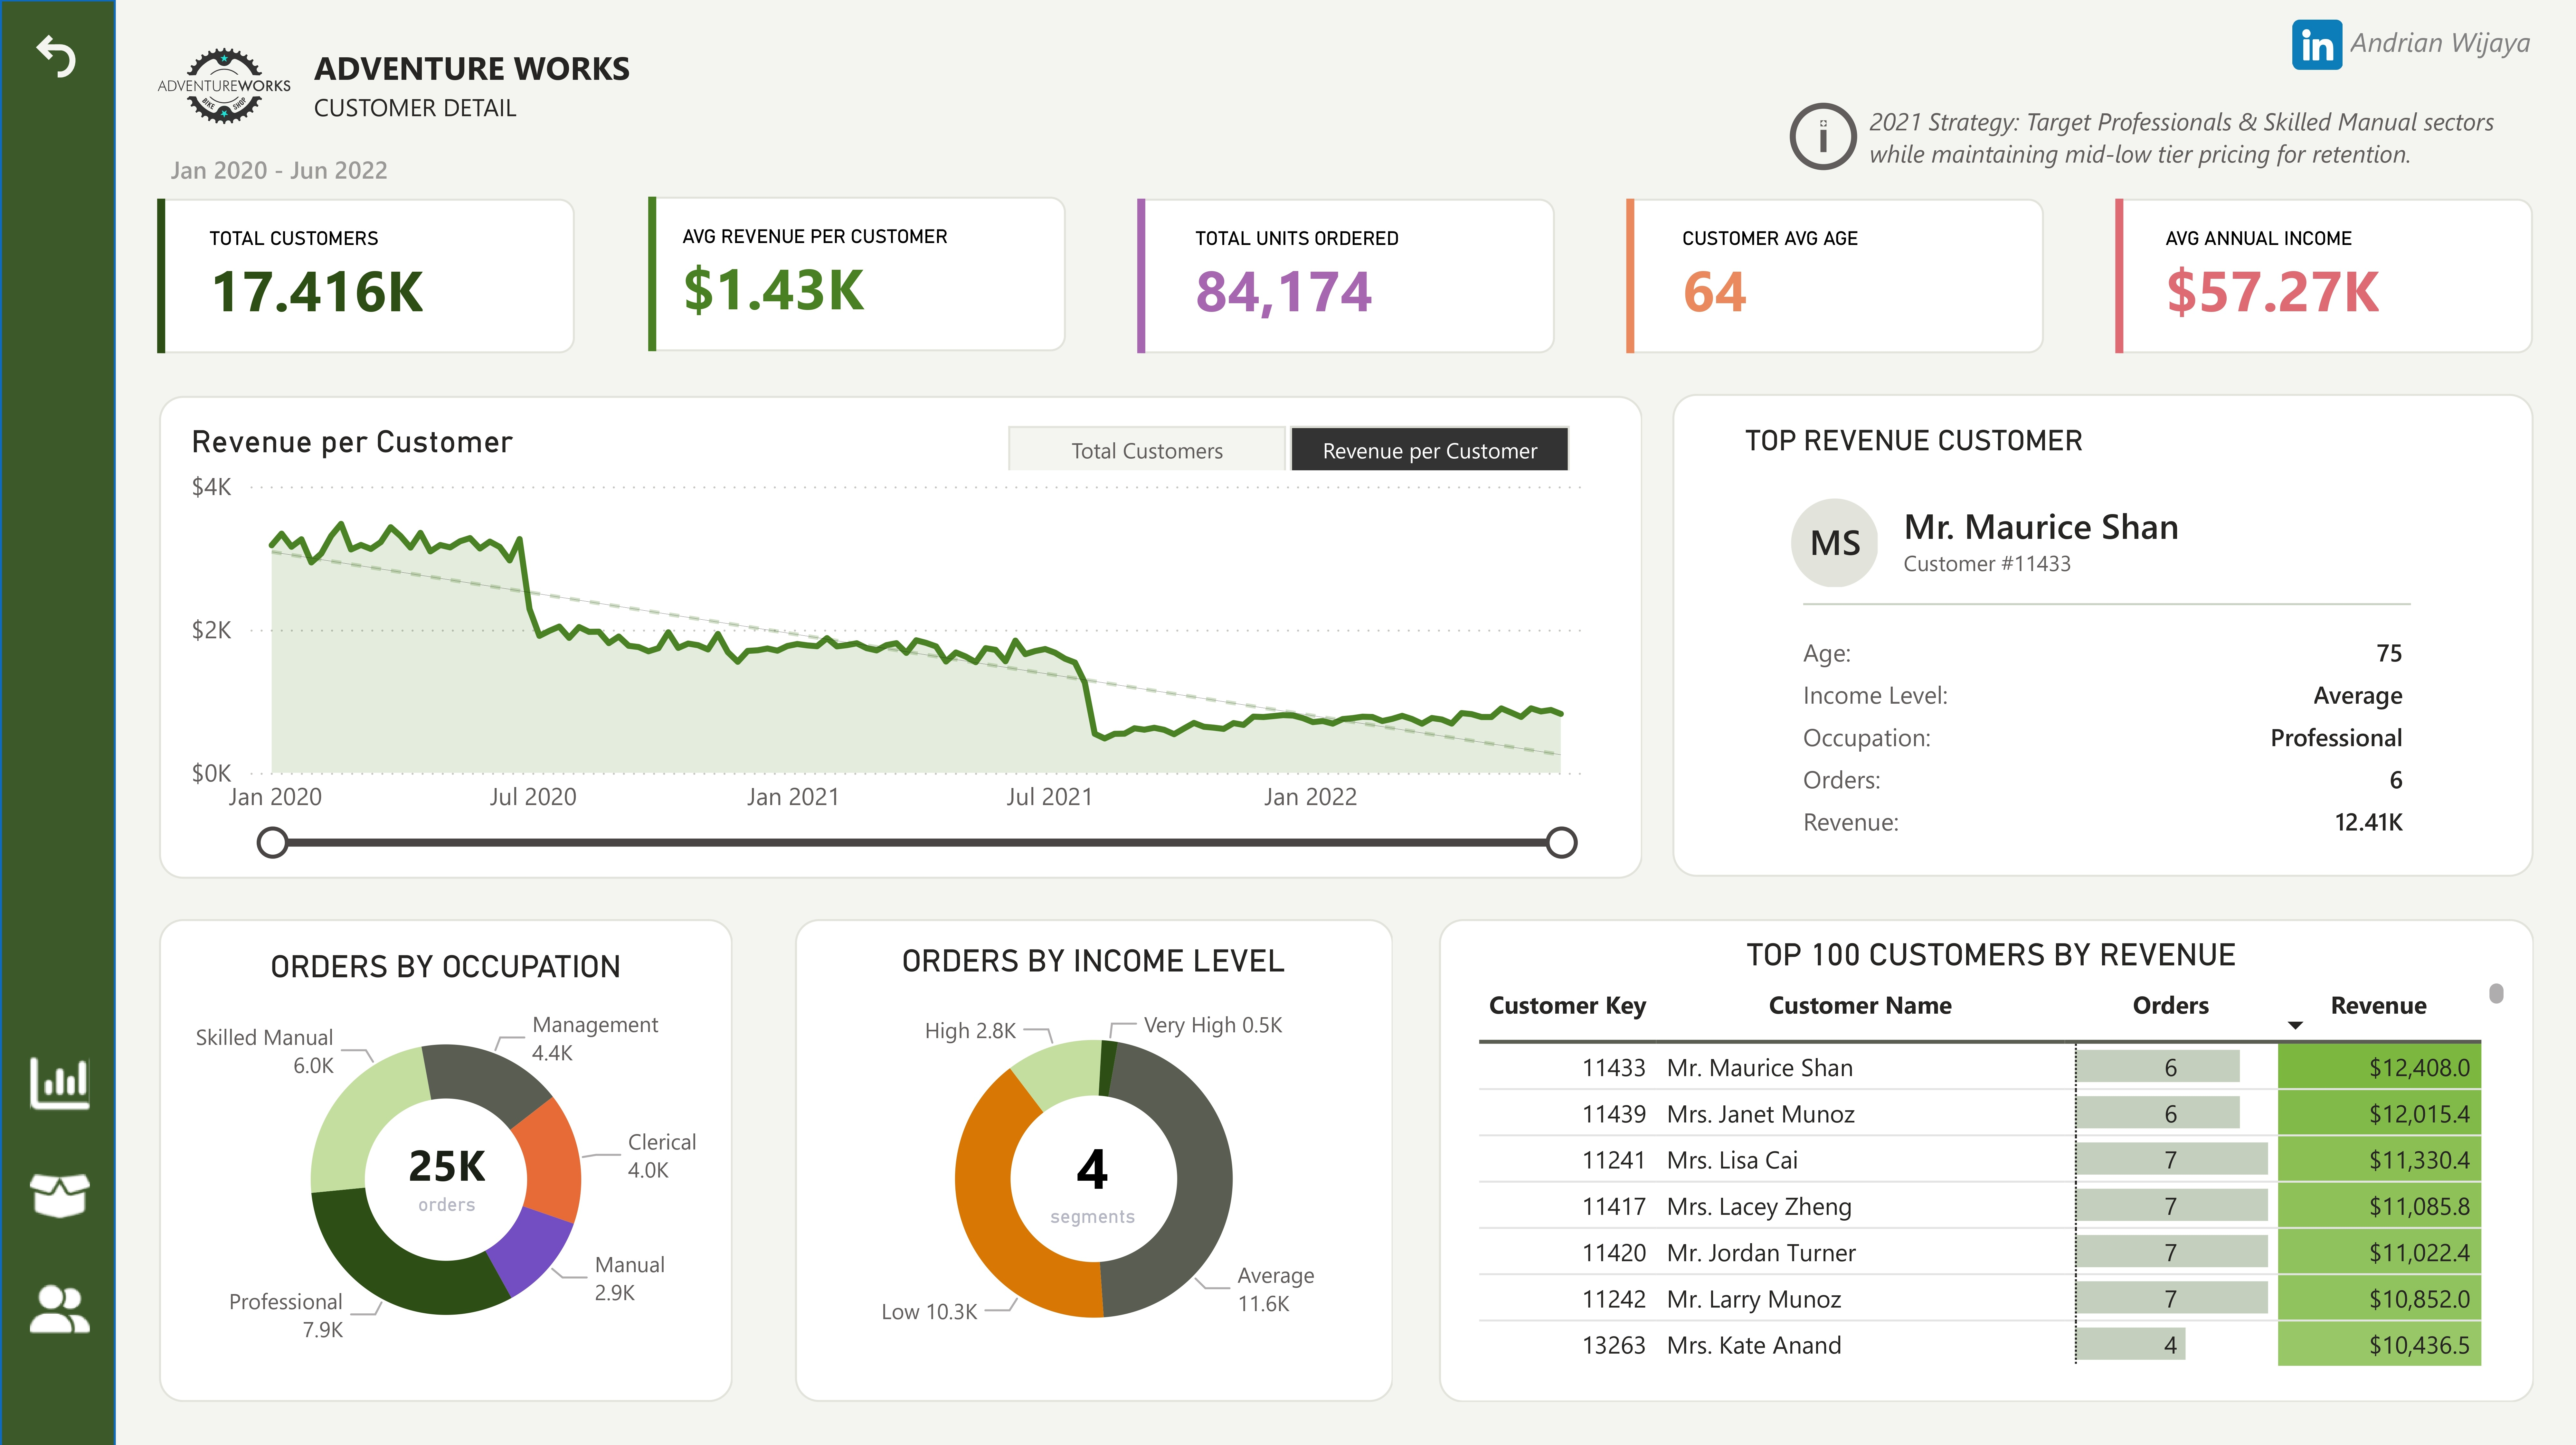

Layout of this report page (visuals, bound fields, positions):
{"tool":"powerbi","page":{"name":"Customer Detail","canvas":[1280,720],"ordinal":2},"visuals":[{"type":"textbox","title":"linkdin","box":[1163.8,7.1,109.6,29.6],"z":0,"group":"g5"},{"type":"image","box":[68,22.4,86.1,40.4],"z":0,"group":"g9"},{"type":"shape","title":"SHAPE","box":[831.3,196.4,428,240],"z":0,"group":"g7"},{"type":"shape","title":"Shape","box":[79.4,196.7,737.3,240],"z":0,"group":"g4"},{"type":"shape","box":[890.6,248.2,43.5,44.3],"z":0,"group":"g1"},{"type":"shape","title":"shape","box":[79.4,457.4,285.2,240],"z":0,"group":"g2"},{"type":"shape","title":"SHAPE","box":[394.8,457.4,297.5,240],"z":0,"group":"g3"},{"type":"shape","title":"shape","box":[714.8,457.4,544.3,240.2],"z":0,"group":"g6"},{"type":"actionButton","box":[10.8,519.4,37.5,39.2],"z":0,"group":"g8"},{"type":"image","box":[1139.3,9.8,25.3,25.3],"z":1000,"group":"g5"},{"type":"textbox","box":[150.5,17.7,204.5,50.9],"z":1000,"group":"g9"},{"type":"textbox","title":"Title","box":[862.4,204.9,254.8,29.5],"z":1000,"group":"g7"},{"type":"lineChart","fields":{"Y":["Measure Table.Total Customers"],"Category":["Calendar Lookup.Date Hierarchy (Start).Year","Calendar Lookup.Date Hierarchy (Start).Start of Month","Calendar Lookup.Date Hierarchy (Start).Start of Week"]},"box":[90.3,209.9,714.6,219.8],"z":1000,"group":"g4"},{"type":"cardVisual","title":"Inisial","fields":{"Data":["Measure Table.Initial Cust"]},"box":[890.6,242,44.3,50.5],"z":1000,"group":"g1"},{"type":"tableEx","title":"TOP 100 CUSTOMERS BY REVENUE","fields":{"Values":["Customer Lookup.CustomerKey","Min(Customer Lookup.Full Name)","Measure Table.Total Orders","Measure Table.Total Revenue"]},"box":[728.4,465.1,521,218.8],"z":1000,"group":"g6"},{"type":"donutChart","title":"ORDERS BY INCOME LEVEL","fields":{"Y":["Measure Table.Total Orders"],"Category":["Customer Lookup.Income Level"]},"box":[408,468.2,271.1,217.7],"z":1000,"group":"g3"},{"type":"cardVisual","title":"Orders Card","fields":{"Data":["Measure Table.Total Orders"]},"box":[172.3,540.8,100,88.5],"z":1000,"group":"g2"},{"type":"actionButton","box":[10.8,575.2,37.5,39.2],"z":1000,"group":"g8"},{"type":"slicer","fields":{"Values":["Customers Metric Selection.Customers Metric Selection"]},"box":[311.4,205.2,328.5,29],"z":2000,"group":"g4"},{"type":"cardVisual","fields":{"Data":["Measure Table.Full Name (Customer Detail)"]},"box":[866,221.2,362.3,212.3],"z":2000,"group":"g7"},{"type":"donutChart","title":"ORDERS BY OCCUPATION","fields":{"Y":["Measure Table.Total Orders"],"Category":["Customer Lookup.Occupation"]},"box":[89.8,471.2,265.2,212.5],"z":2000,"group":"g2"},{"type":"cardVisual","title":"Units Ordered","fields":{"Data":["Measure Table.Total Income Level"]},"box":[499.1,549.9,88.8,71.5],"z":2000,"group":"g3"},{"type":"actionButton","box":[10.8,631.1,37.5,39.2],"z":2000,"group":"g8"},{"type":"group","id":"g1","title":"PP","box":[890.6,242,43.8,50],"z":3000,"group":"g7"},{"type":"group","id":"g2","title":"Orders by Occupation","box":[79.4,457.4,285.2,240],"z":5000},{"type":"group","id":"g3","title":"Orders by Income","box":[394.8,457.4,297.5,240],"z":6000},{"type":"group","id":"g4","title":"Total Customers","box":[79.4,196.7,737.3,240],"z":7000},{"type":"group","id":"g5","title":"Linkedin","box":[1139.3,7.1,133.7,29.7],"z":8000},{"type":"group","id":"g6","title":"top100","box":[714.8,457.4,544.5,240],"z":9000},{"type":"group","id":"g7","title":"Top Customer","box":[831.3,196.4,428,240],"z":10000},{"type":"shape","title":"Menu Bar","box":[0,0,57.5,720],"z":11000},{"type":"group","id":"g8","title":"Button","box":[10.8,519.4,37.5,150.8],"z":12000},{"type":"actionButton","title":"Reset Filter","box":[13.1,11.5,30,31.5],"z":13000},{"type":"group","id":"g9","title":"Logo","box":[68,17.7,287.1,50.9],"z":14000},{"type":"cardVisual","fields":{"Data":["Measure Table.Date Range Label"]},"box":[67.7,63.8,213.8,37.7],"z":15000},{"type":"actionButton","title":"Insight 2021","box":[884.2,45.8,375,44.2],"z":16000},{"type":"actionButton","box":[10,56.7,35.8,34.2],"z":17000},{"type":"cardVisual","fields":{"Data":["Measure Table.Total Customers","Measure Table.Average Revenue per Customer","Measure Table.Quantity Orders","Measure Table.Average Age Customer","Measure Table.Avg Annual Income"]},"box":[62.1,87.4,1209.5,117.9],"z":18001}]}

Visuals, with their boxes on the page's 1280x720 design canvas (x1, y1, x2, y2). These are canvas units, not pixel positions in the 2576x1445 screenshot, which may show the page scaled, cropped or inside an application window:
"linkdin" textbox: BBox(1164, 7, 1273, 37)
image: BBox(68, 22, 154, 63)
"SHAPE" shape: BBox(831, 196, 1259, 436)
"Shape" shape: BBox(79, 197, 817, 437)
shape: BBox(891, 248, 934, 292)
"shape" shape: BBox(79, 457, 365, 697)
"SHAPE" shape: BBox(395, 457, 692, 697)
"shape" shape: BBox(715, 457, 1259, 698)
actionButton: BBox(11, 519, 48, 559)
image: BBox(1139, 10, 1165, 35)
textbox: BBox(150, 18, 355, 69)
"Title" textbox: BBox(862, 205, 1117, 234)
lineChart - Measure Table.Total Customers x Calendar Lookup.Date Hierarchy (Start).Year: BBox(90, 210, 805, 430)
"Inisial" cardVisual: BBox(891, 242, 935, 292)
"TOP 100 CUSTOMERS BY REVENUE" tableEx: BBox(728, 465, 1249, 684)
"ORDERS BY INCOME LEVEL" donutChart: BBox(408, 468, 679, 686)
"Orders Card" cardVisual: BBox(172, 541, 272, 629)
actionButton: BBox(11, 575, 48, 614)
slicer - Customers Metric Selection.Customers Metric Selection: BBox(311, 205, 640, 234)
cardVisual - Measure Table.Full Name (Customer Detail): BBox(866, 221, 1228, 434)
"ORDERS BY OCCUPATION" donutChart: BBox(90, 471, 355, 684)
"Units Ordered" cardVisual: BBox(499, 550, 588, 621)
actionButton: BBox(11, 631, 48, 670)
"PP" group: BBox(891, 242, 934, 292)
"Orders by Occupation" group: BBox(79, 457, 365, 697)
"Orders by Income" group: BBox(395, 457, 692, 697)
"Total Customers" group: BBox(79, 197, 817, 437)
"Linkedin" group: BBox(1139, 7, 1273, 37)
"top100" group: BBox(715, 457, 1259, 697)
"Top Customer" group: BBox(831, 196, 1259, 436)
"Menu Bar" shape: BBox(0, 0, 58, 720)
"Button" group: BBox(11, 519, 48, 670)
"Reset Filter" actionButton: BBox(13, 12, 43, 43)
"Logo" group: BBox(68, 18, 355, 69)
cardVisual - Measure Table.Date Range Label: BBox(68, 64, 282, 102)
"Insight 2021" actionButton: BBox(884, 46, 1259, 90)
actionButton: BBox(10, 57, 46, 91)
cardVisual - Measure Table.Total Customers x Measure Table.Average Revenue per Customer: BBox(62, 87, 1272, 205)
